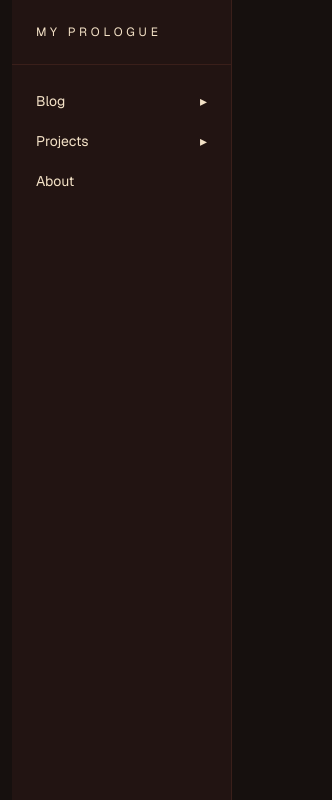
Scenario: Sidebar › collapses cascade on second click of the same parent
The width and height of the screenshot is (332, 800).
Click the button "Blog ▸": (122,101) [12,81,231,121]
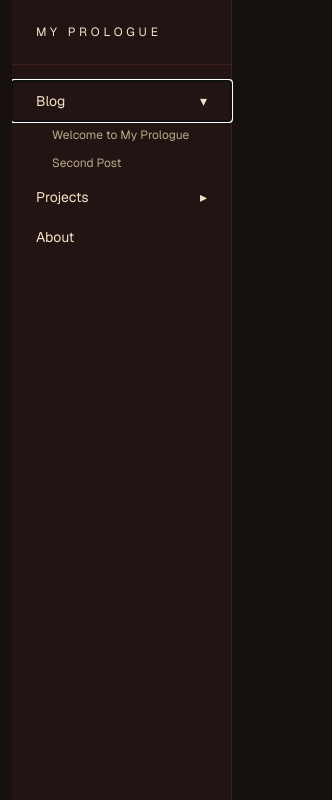
Click the button "Blog ▾": (122,101) [12,81,231,121]
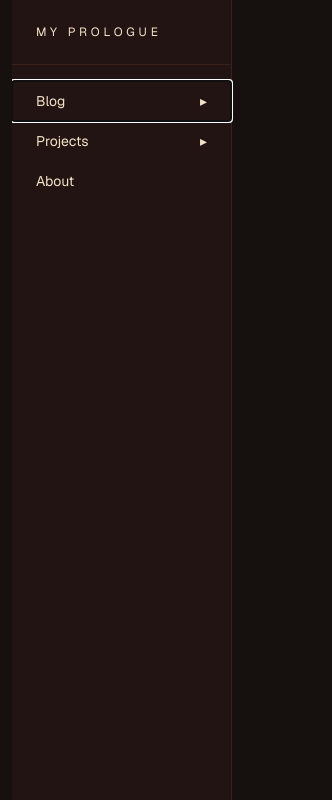
Expected: the link "Welcome to My Prologue" is gone
